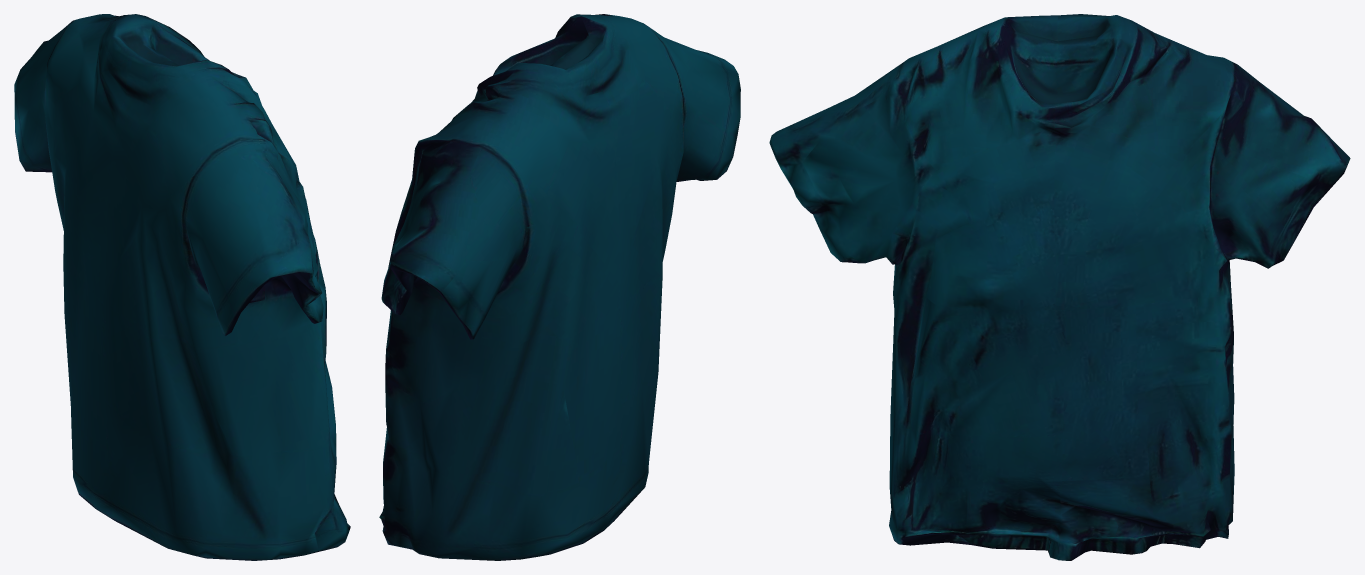
Rendered from petrol.glb.
3 views of the same model, side by side, from view 1: azimuth 30°, elevation 25°; view 2: azimuth 150°, elevation 25°; view 3: azimuth 270°, elevation 25° (orthographic).
Parts seen in each view (by area): view 1: tripo_node_a48b88ee-717d-4e24-b9bc-bfdb2de70ab1; view 2: tripo_node_a48b88ee-717d-4e24-b9bc-bfdb2de70ab1; view 3: tripo_node_a48b88ee-717d-4e24-b9bc-bfdb2de70ab1.
Boxes of the visible parts, <box> form: tripo_node_a48b88ee-717d-4e24-b9bc-bfdb2de70ab1: <box>14,14,350,560</box>; tripo_node_a48b88ee-717d-4e24-b9bc-bfdb2de70ab1: <box>379,14,740,560</box>; tripo_node_a48b88ee-717d-4e24-b9bc-bfdb2de70ab1: <box>769,14,1350,560</box>.
Bounding box in the file's own units: 0.3892 × 0.9004 × 0.9996.
1 material, 1 textured.
